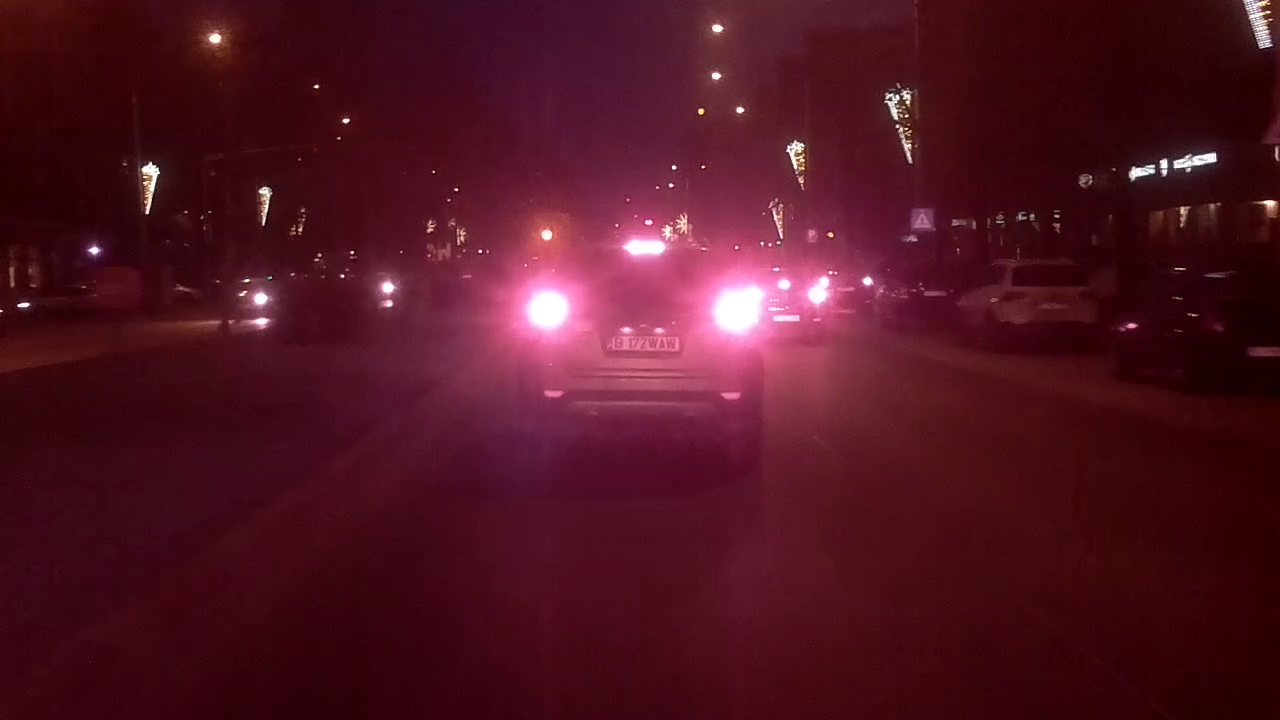license-plate: (600, 332, 682, 354)
